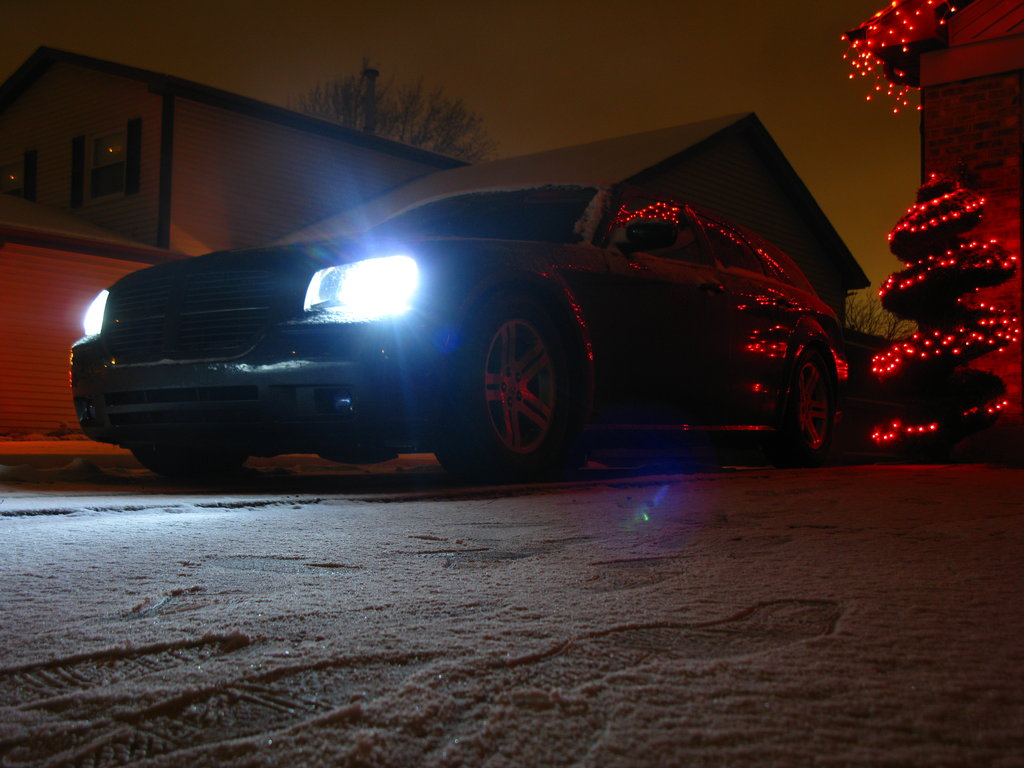car: (62, 176, 863, 503)
